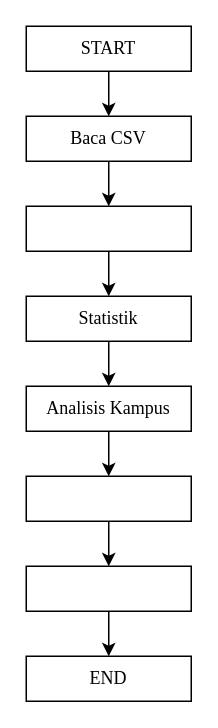
The diagram is 218 pixels wide and 728 high, and some of its shapes have lost their labels. The box of each missing label's shape, as (x1, y1, x2, y2) in pixels:
Rating: (25, 475, 191, 521)
Ringkasan Data: (25, 205, 191, 251)
Simpan TXT: (25, 565, 191, 611)
